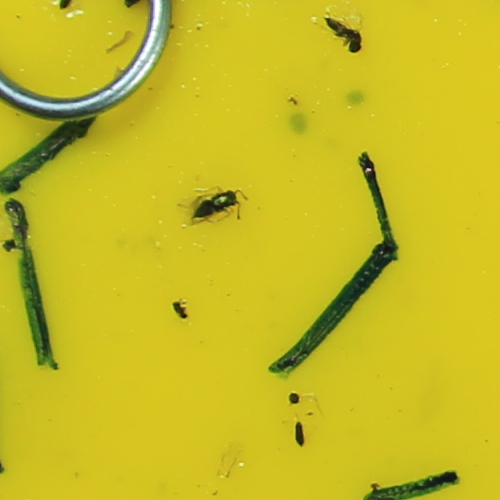wasp: (190, 186, 245, 220)
